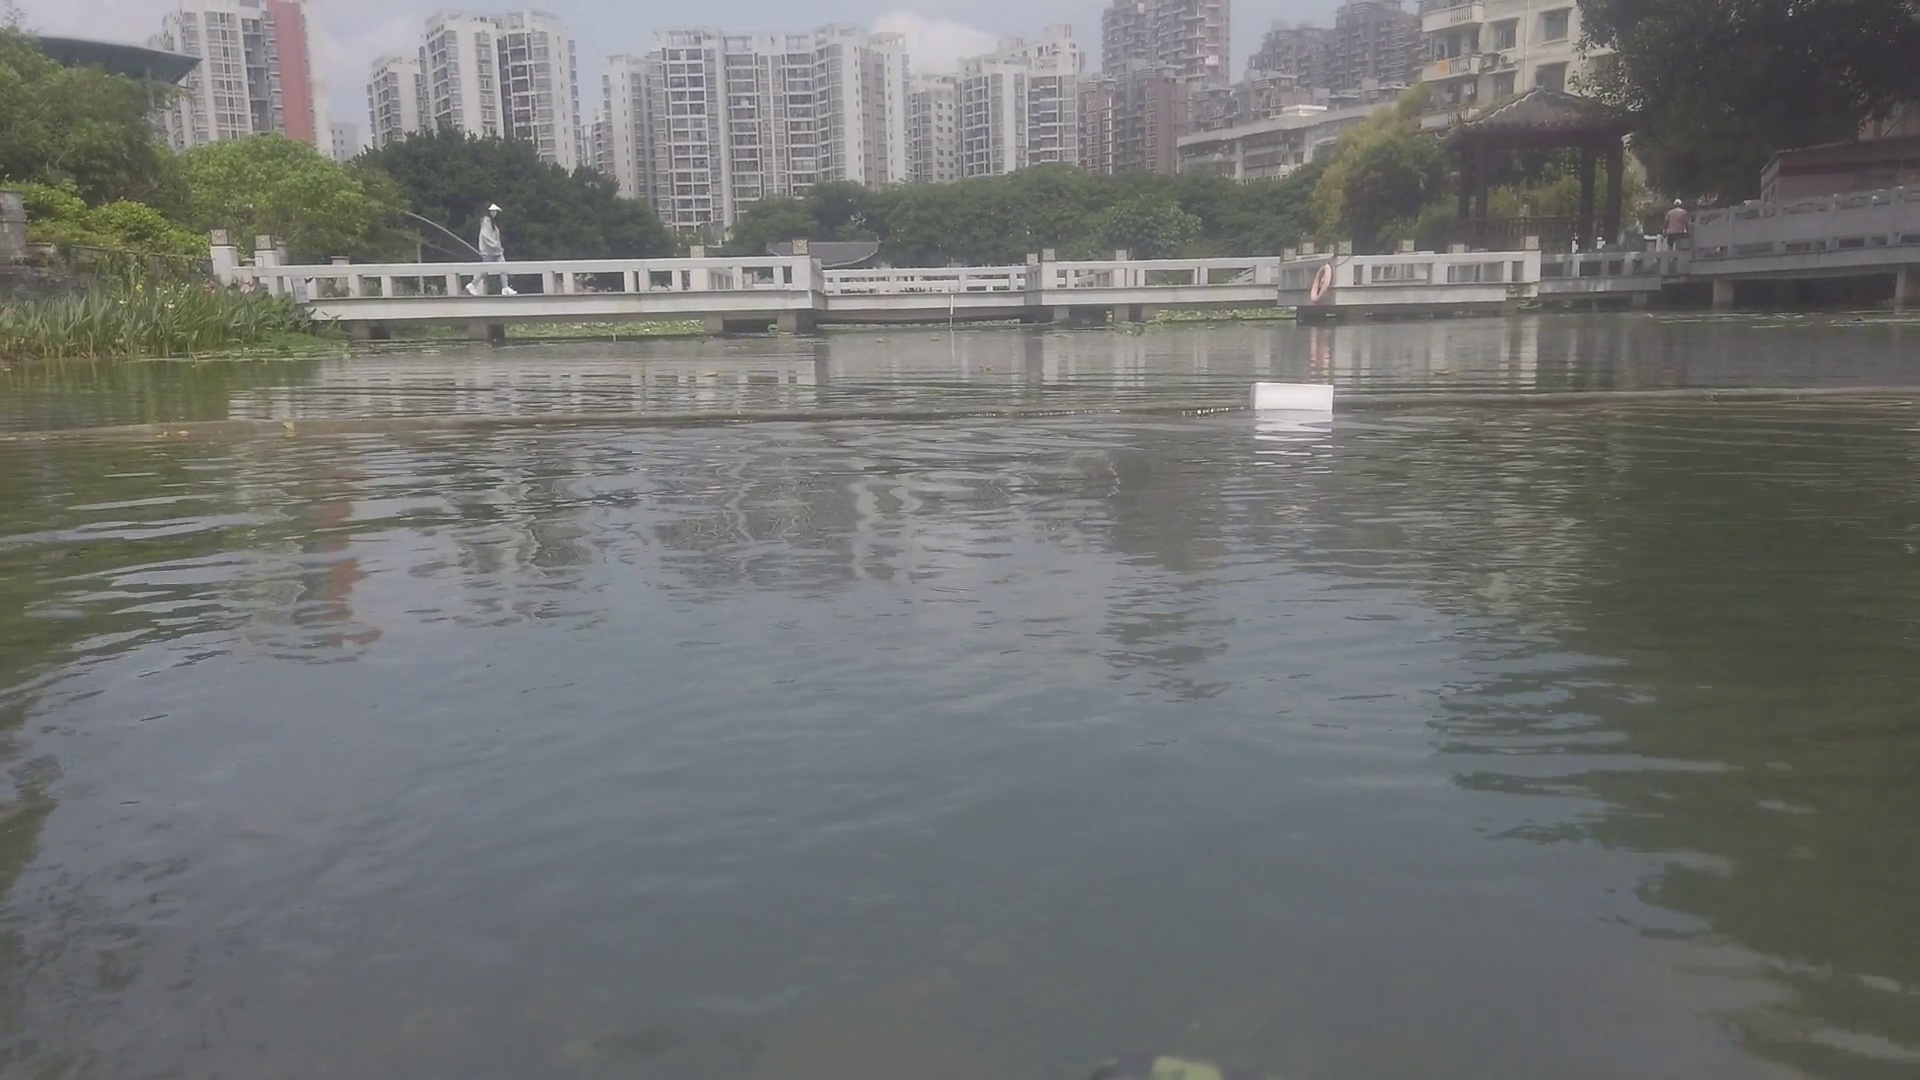carton: (1247, 380, 1342, 417)
